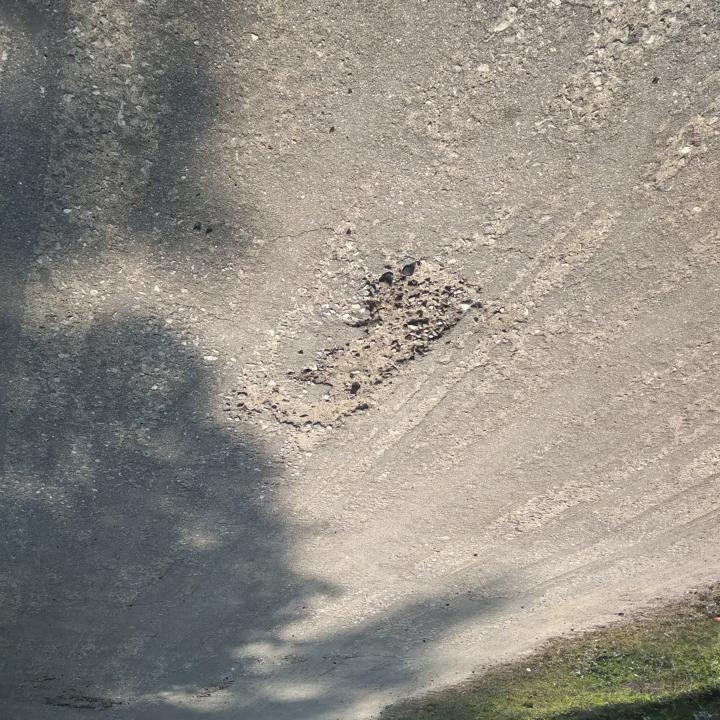pothole: (263, 261, 490, 435)
